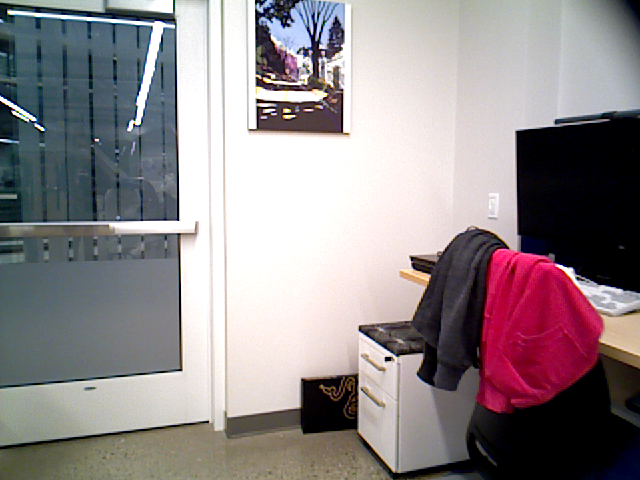painting3: (249, 1, 351, 130)
